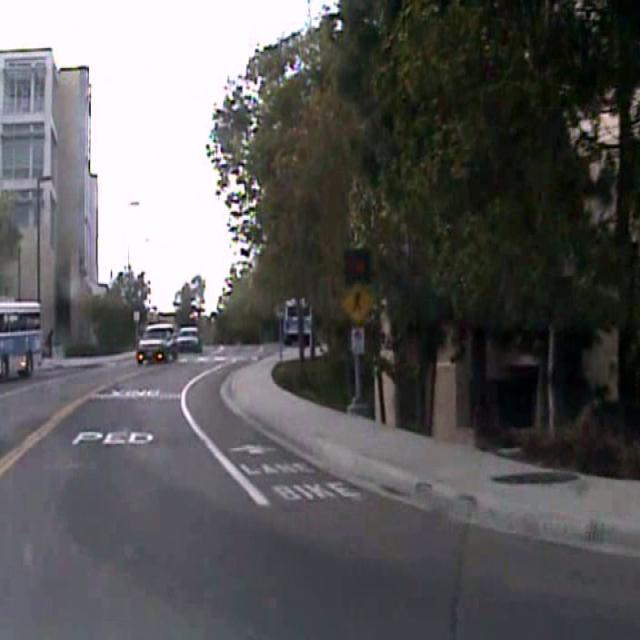pedestrianCrossing: (341, 280, 374, 325)
